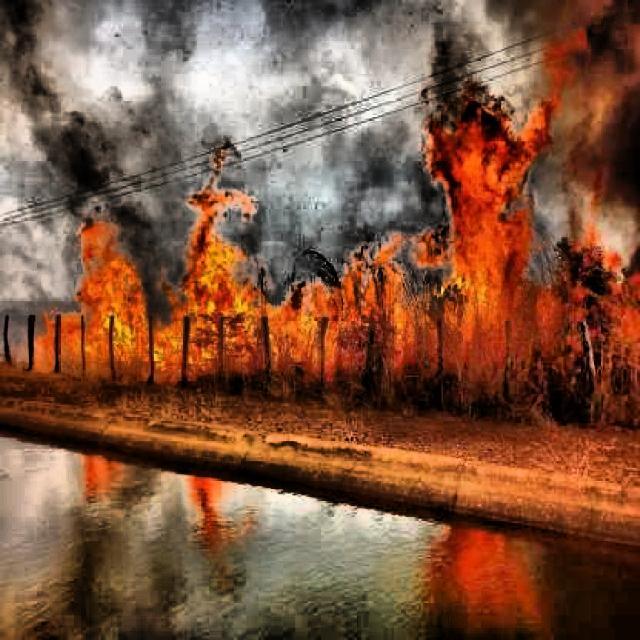Fire: (36, 26, 634, 374)
